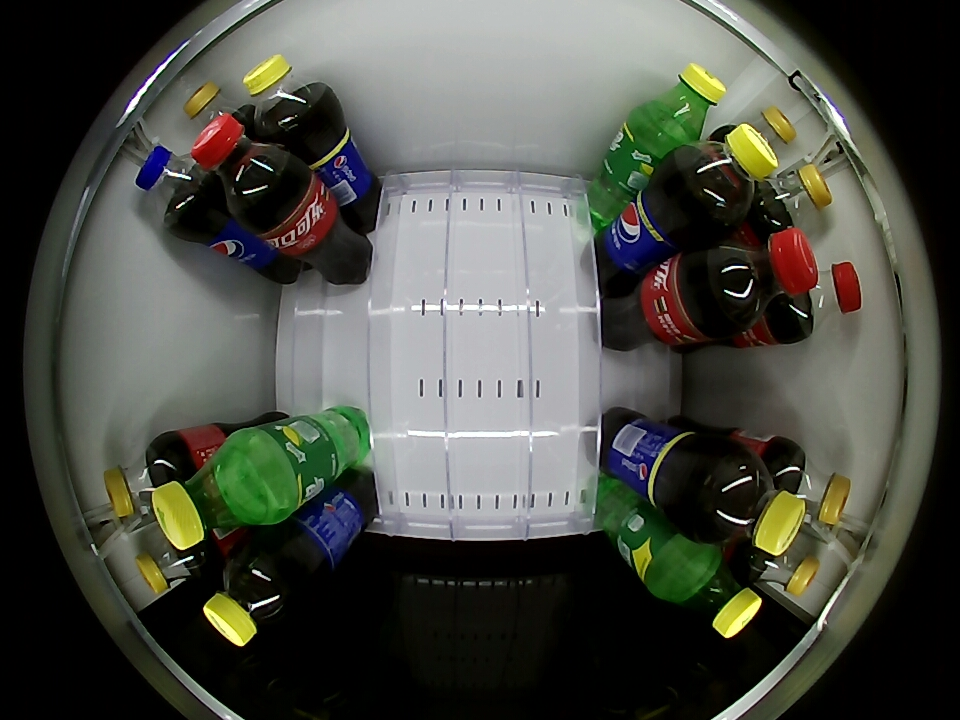baishikele: (699, 447, 807, 556), (678, 124, 778, 225), (203, 546, 301, 646), (242, 54, 328, 137)
baishikele-2: (135, 143, 210, 227)
kele-b: (711, 228, 818, 325), (191, 113, 291, 214), (785, 260, 861, 337)
kele-b-2: (778, 446, 851, 529), (104, 441, 181, 519), (760, 163, 832, 230), (746, 535, 822, 598), (136, 534, 209, 595), (182, 81, 244, 131), (749, 106, 796, 155)
xuebi-b: (151, 449, 268, 549), (659, 545, 762, 637), (644, 63, 726, 144)
